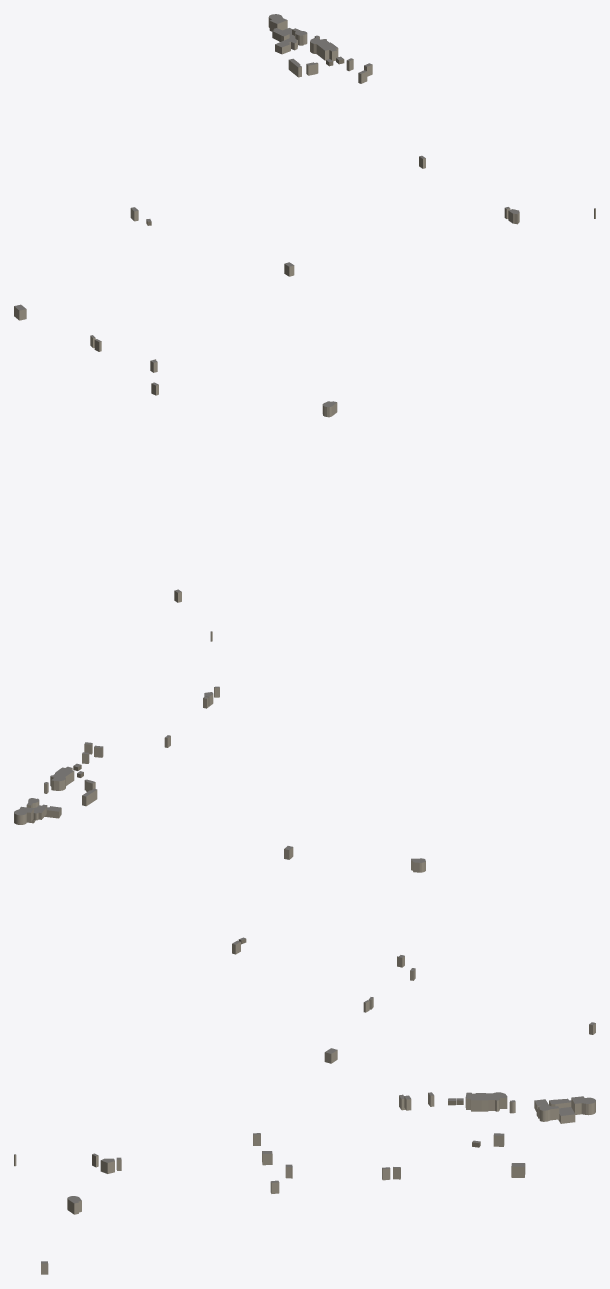
The model's file is buildings.glb.
The picture shows the model from 3 angles, top to bottom: view 1: azimuth 30°, elevation 25°; view 2: azimuth 150°, elevation 25°; view 3: azimuth 270°, elevation 25°; orthographic projection. The views are drawn at different scales.
Visible parts, largest first — view 1: T_E0_N0_buildings; view 2: T_E0_N0_buildings; view 3: T_E0_N0_buildings.
Part boxes in pixels (x1,y1,x2,y2): T_E0_N0_buildings: (14,14,595,602); T_E0_N0_buildings: (14,631,595,1063); T_E0_N0_buildings: (14,1092,595,1274).
Bounding box in the file's own units: 424 × 329 × 472.
